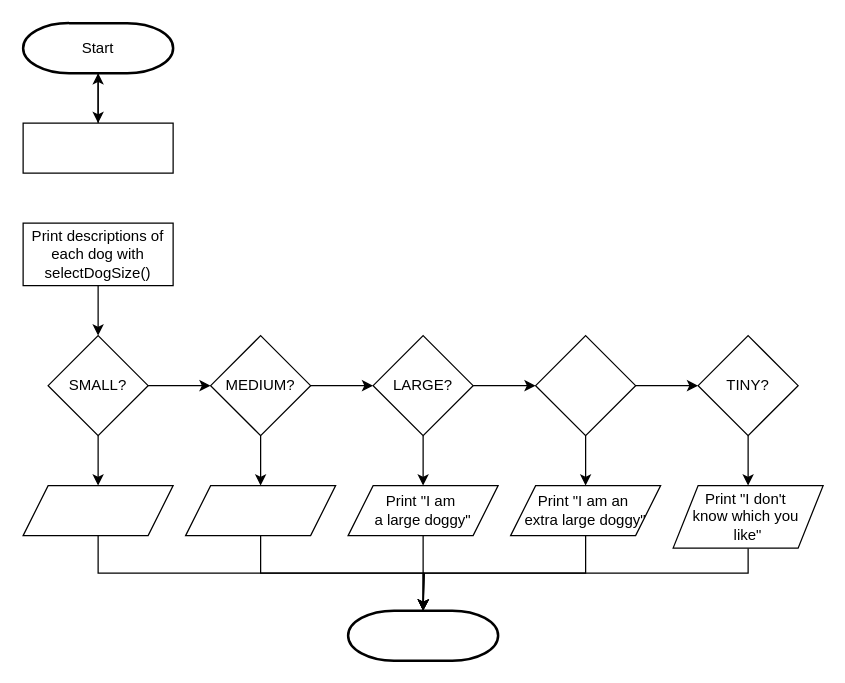
This 845x683 diagram has some shape labels left out. Here are the shapes that lost their labels. From the top down, the centre of each, then its label:
point (97, 147): Initialize Dogs with different Sizes
point (585, 385): XLARGE?
point (97, 510): Print "I am a small doggy"
point (260, 510): Print "I am a medium doggy"
point (422, 635): End
